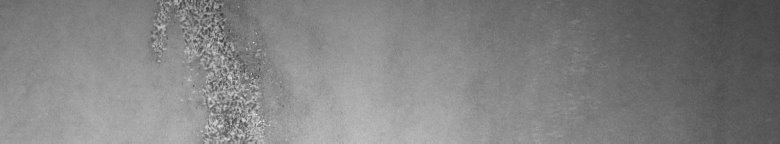hc: (149, 4, 272, 136)
